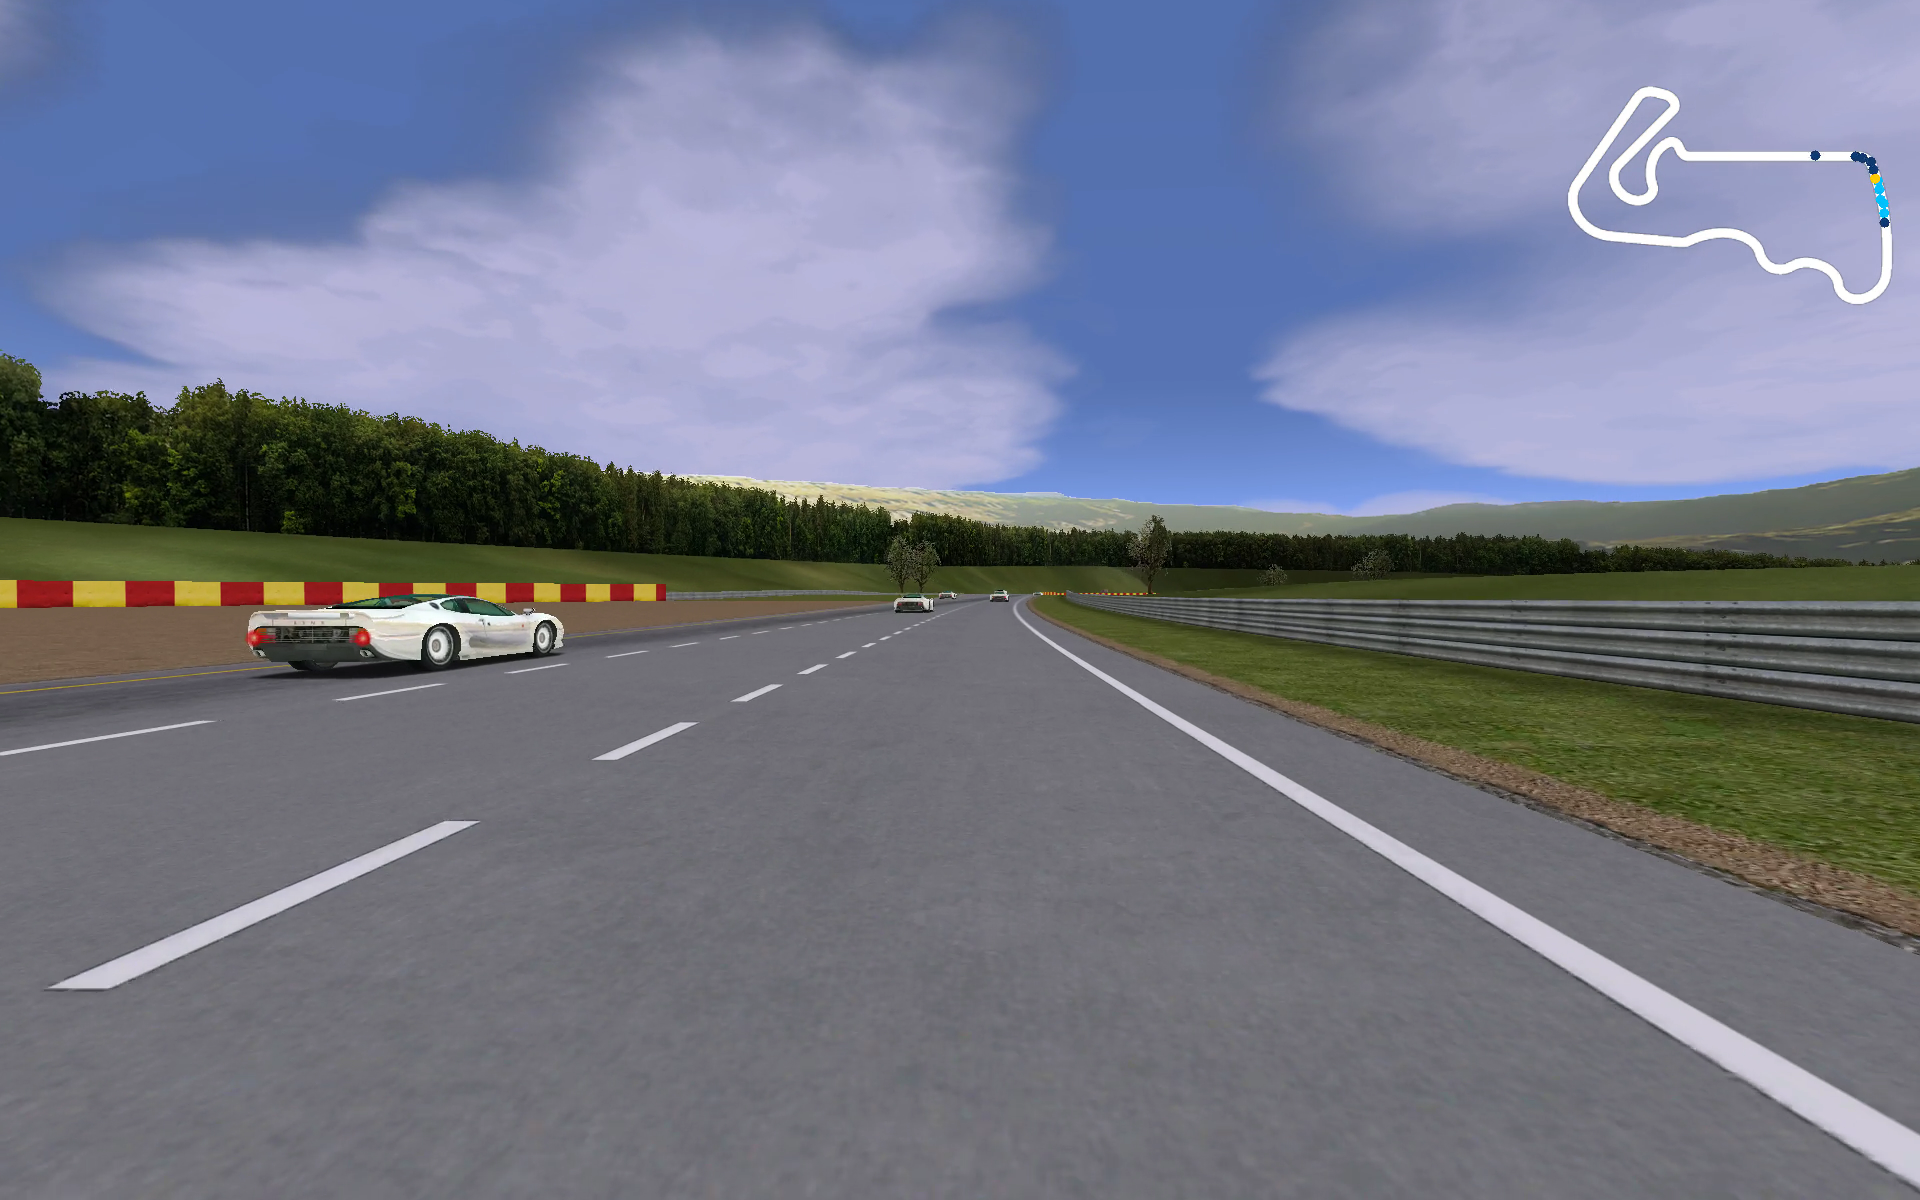car: (242, 596, 564, 675), (894, 592, 934, 618), (986, 588, 1010, 603), (934, 590, 958, 603)
